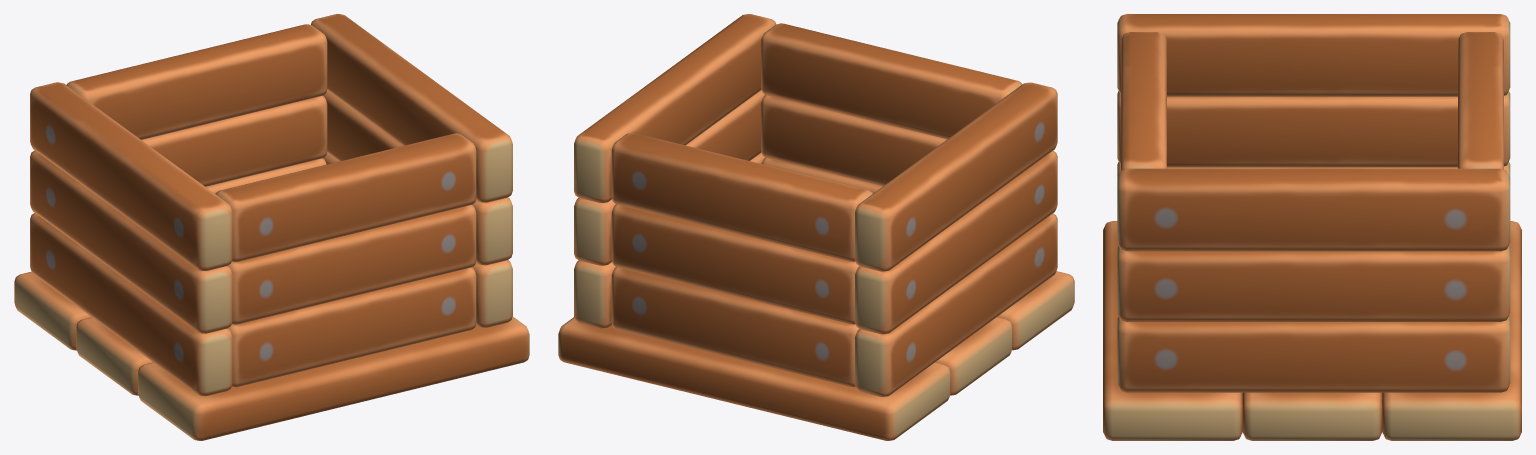
The model's file is food box.fbx.
3 renders of one model, left to right at view 1: azimuth 30°, elevation 25°; view 2: azimuth 150°, elevation 25°; view 3: azimuth 270°, elevation 25°, orthographic. The views are drawn at different scales.
Visible parts, largest first — view 1: food box.006; view 2: food box.006; view 3: food box.006.
Boxes of the visible parts, x1,y1,x2,y2 form: food box.006: (14, 14, 529, 440); food box.006: (558, 14, 1074, 440); food box.006: (1103, 14, 1521, 440).
Bounding box in the file's own units: 62.67 × 40.09 × 59.78.
1 material, 1 textured.
